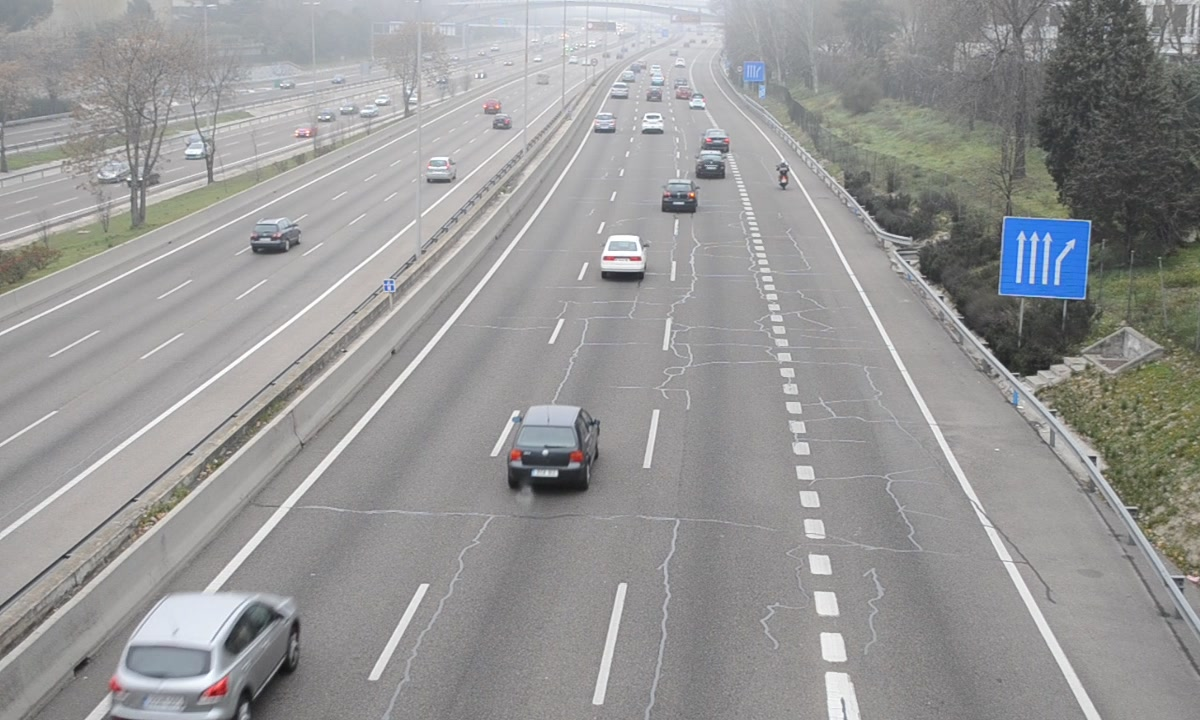car: (107, 589, 301, 720), (507, 405, 600, 484), (600, 234, 647, 274), (663, 179, 698, 211), (695, 150, 727, 181), (701, 127, 732, 152), (639, 111, 666, 135), (595, 109, 618, 134)
motorcycle: (775, 160, 792, 193)
